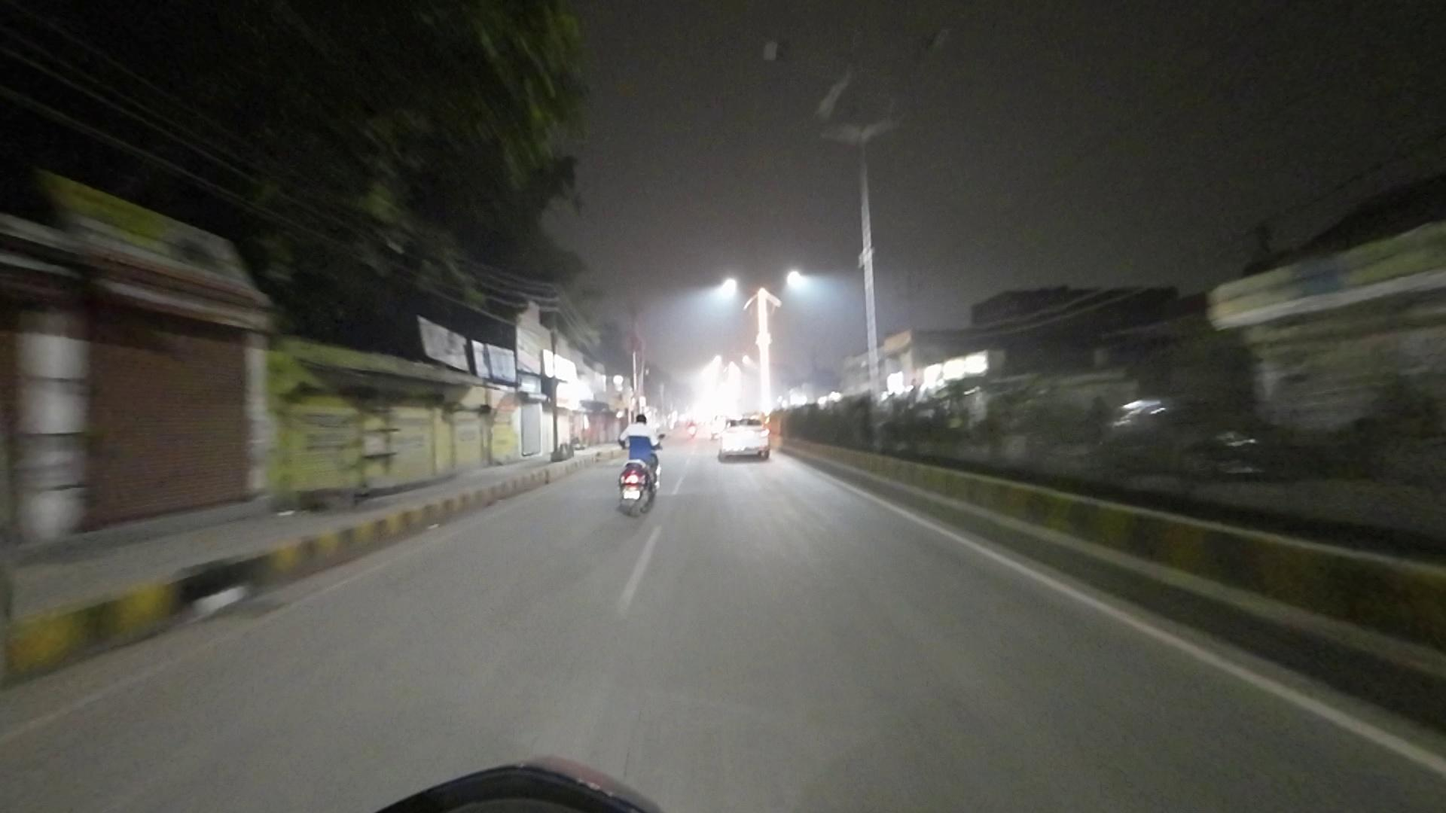streetlight: (757, 32, 843, 71), (864, 26, 956, 56)
